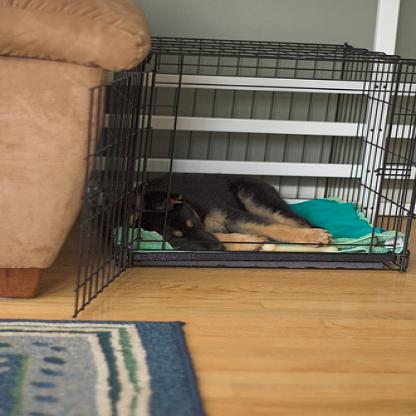dog: (104, 171, 333, 252)
